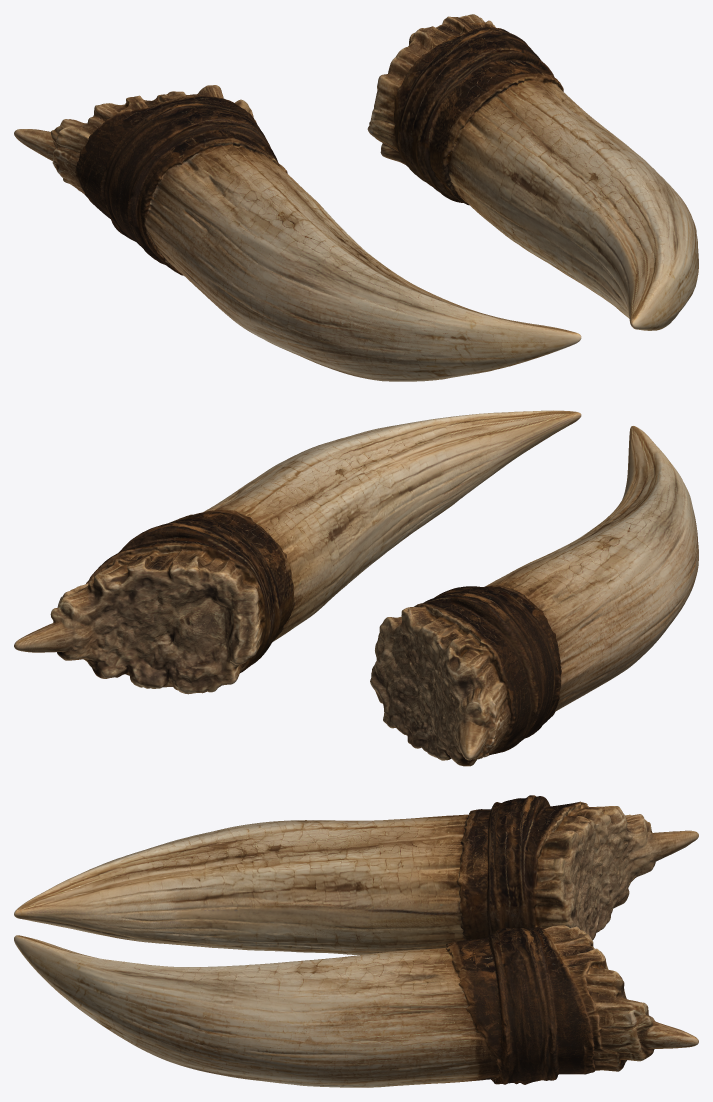
Rendered from Meshy_AI_Ivory_Horns_Bound_in__0715005544_texture.fbx.
3 renders of one model, top to bottom at view 1: azimuth 30°, elevation 25°; view 2: azimuth 150°, elevation 25°; view 3: azimuth 270°, elevation 25°, orthographic. The views are drawn at different scales.
Parts seen in each view (by area): view 1: mesh_node; view 2: mesh_node; view 3: mesh_node.
Boxes of the visible parts, bbox=[...] form: mesh_node: bbox=[14, 14, 698, 381]; mesh_node: bbox=[14, 410, 698, 766]; mesh_node: bbox=[14, 795, 698, 1087].
Bounding box in the file's own units: 137 × 44.55 × 190.
1 material, 1 textured.
